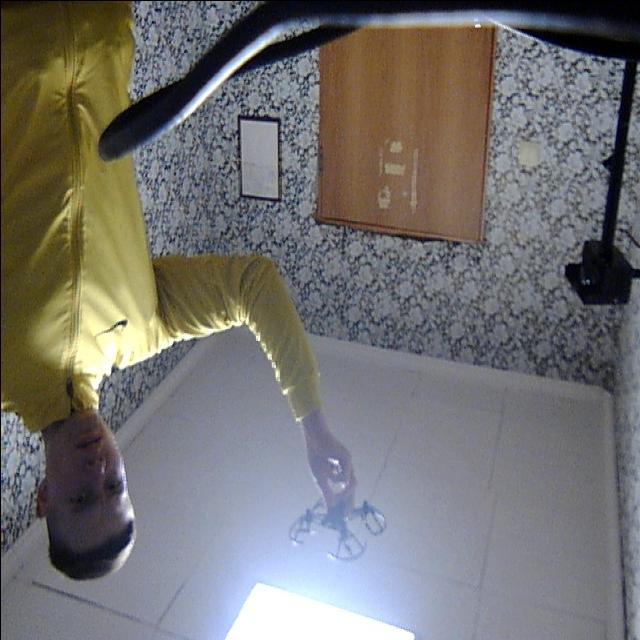drone: (280, 488, 392, 570)
